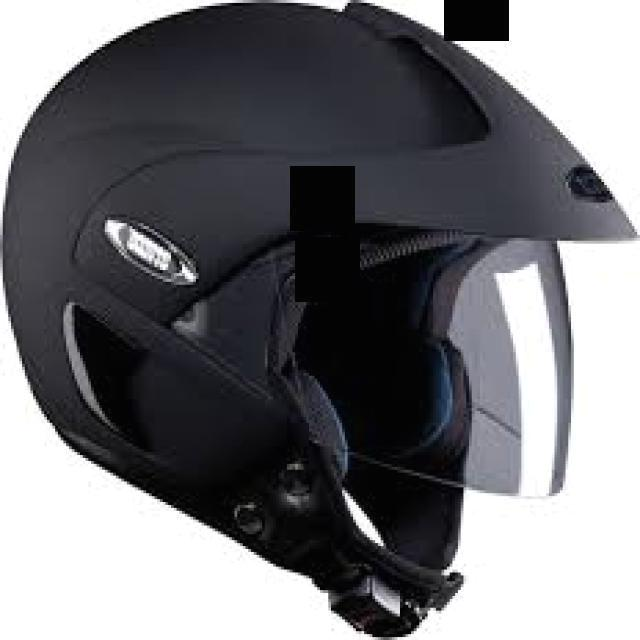helmet: (3, 1, 639, 636)
